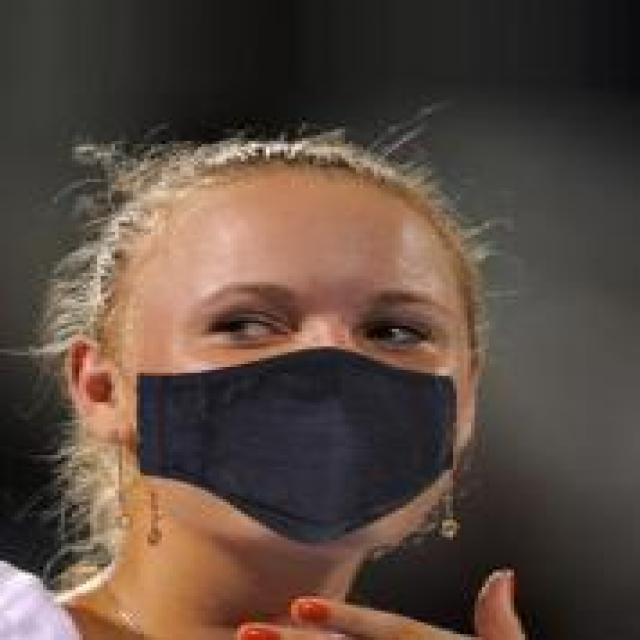mask: (119, 56, 572, 584)
